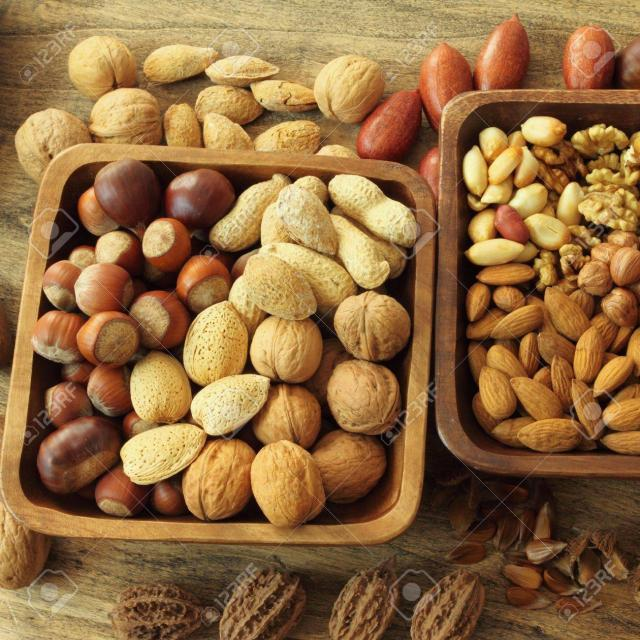Frutta secca: (45, 171, 412, 529), (468, 128, 640, 450)
